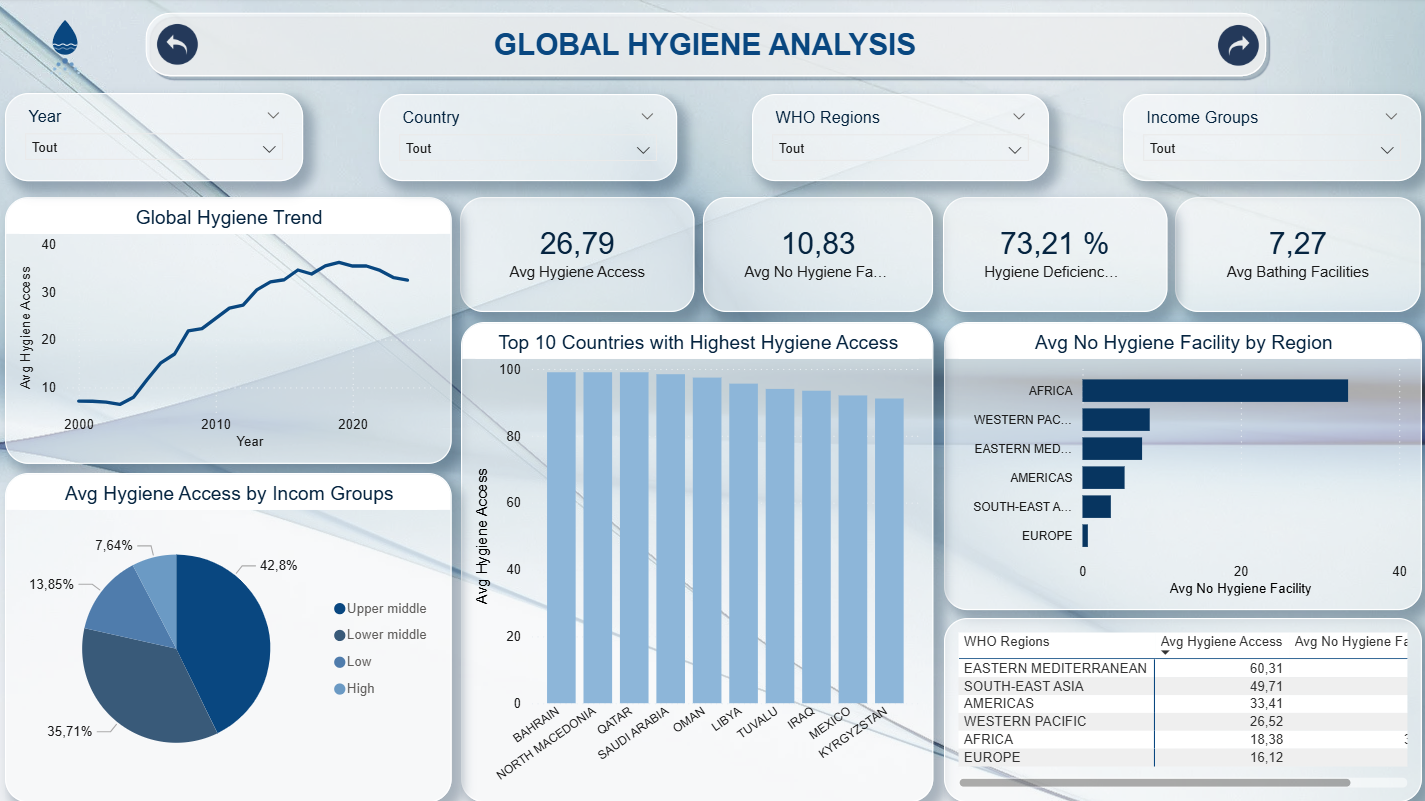

The page's visual inventory and layout, read from the dashboard file:
{"tool":"powerbi","page":{"name":"Hygiene Analysis","canvas":[1280,720],"ordinal":2},"visuals":[{"type":"cardVisual","fields":{"Data":["HYGIENE.Avg Hygiene Access"]},"box":[413.9,178.5,210.1,103.2],"z":0},{"type":"cardVisual","fields":{"Data":["HYGIENE.Avg Bathing Facilities"]},"box":[1054.1,178.5,220.3,103.2],"z":1000},{"type":"cardVisual","fields":{"Data":["HYGIENE.Avg No Hygiene Facility"]},"box":[631.6,178.5,206.4,103.2],"z":2000},{"type":"cardVisual","fields":{"Data":["HYGIENE.Hygiene Deficiency Rate"]},"box":[845.9,178.5,200.8,103.2],"z":3000},{"type":"lineChart","title":"Global Hygiene Trend","fields":{"Category":["YEAR.value"],"Y":["Avg(HYGIENE.basic)"]},"box":[6.5,178.5,399.7,238.9],"z":4000},{"type":"clusteredBarChart","title":"Avg No Hygiene Facility by Region","fields":{"Category":["WHO_REGIONS.who_regions"],"Y":["HYGIENE.Avg No Hygiene Facility"]},"box":[846.8,290,427.6,258.4],"z":5000},{"type":"columnChart","title":"Top 10 Countries with Highest Hygiene Access","fields":{"Category":["COUNTRY.country_name"],"Y":["HYGIENE.Avg Hygiene Access"]},"box":[415,290,422.9,430.4],"z":6000},{"type":"pieChart","title":"Avg Hygiene Access by Incom Groups","fields":{"Category":["HYGIENE.income_groupings"],"Y":["HYGIENE.Avg Hygiene Access"]},"box":[6.5,425.7,399.7,294.7],"z":7000},{"type":"pivotTable","title":"Top 10 Countries with Highest Hygiene Access","fields":{"Values":["HYGIENE.Avg Hygiene Access","HYGIENE.Avg No Hygiene Facility"],"Rows":["WHO_REGIONS.who_regions"]},"box":[846.8,554.9,427.6,165.5],"z":8000},{"type":"slicer","fields":{"Values":["YEAR.value"]},"box":[6.4,84.8,266.8,79.4],"z":9000},{"type":"slicer","fields":{"Values":["COUNTRY.country_name"]},"box":[340.9,85.8,266.8,78.3],"z":10000},{"type":"slicer","fields":{"Values":["WHO_REGIONS.who_regions"]},"box":[675.5,85.8,265.7,78.3],"z":11000},{"type":"slicer","fields":{"Values":["INCOME_GROUPS.Income_Groups"]},"box":[1007.9,85.8,266.8,78.3],"z":12000},{"type":"shape","box":[126,7.4,1015.3,68.8],"z":13000},{"type":"image","box":[18,4.2,83.6,76.2],"z":14000},{"type":"textbox","box":[411.8,22.3,442.5,46.5],"z":15000},{"type":"image","box":[139.4,21.4,42.8,40],"z":16000},{"type":"image","box":[1089.4,22.3,42.8,40],"z":17000}]}

Visuals, with their boxes in screenshot pixels (x1, y1, x2, y2), scaled from the page's 1280x720 canvas onto the 1425x801 screenshot:
cardVisual - HYGIENE.Avg Hygiene Access: box(461, 199, 695, 313)
cardVisual - HYGIENE.Avg Bathing Facilities: box(1174, 199, 1419, 313)
cardVisual - HYGIENE.Avg No Hygiene Facility: box(703, 199, 933, 313)
cardVisual - HYGIENE.Hygiene Deficiency Rate: box(942, 199, 1165, 313)
"Global Hygiene Trend" lineChart: box(7, 199, 452, 464)
"Avg No Hygiene Facility by Region" clusteredBarChart: box(943, 323, 1419, 610)
"Top 10 Countries with Highest Hygiene Access" columnChart: box(462, 323, 933, 800)
"Avg Hygiene Access by Incom Groups" pieChart: box(7, 474, 452, 800)
"Top 10 Countries with Highest Hygiene Access" pivotTable: box(943, 617, 1419, 800)
slicer - YEAR.value: box(7, 94, 304, 183)
slicer - COUNTRY.country_name: box(380, 95, 677, 183)
slicer - WHO_REGIONS.who_regions: box(752, 95, 1048, 183)
slicer - INCOME_GROUPS.Income_Groups: box(1122, 95, 1419, 183)
shape: box(140, 8, 1271, 85)
image: box(20, 5, 113, 89)
textbox: box(458, 25, 951, 77)
image: box(155, 24, 203, 68)
image: box(1213, 25, 1260, 69)
